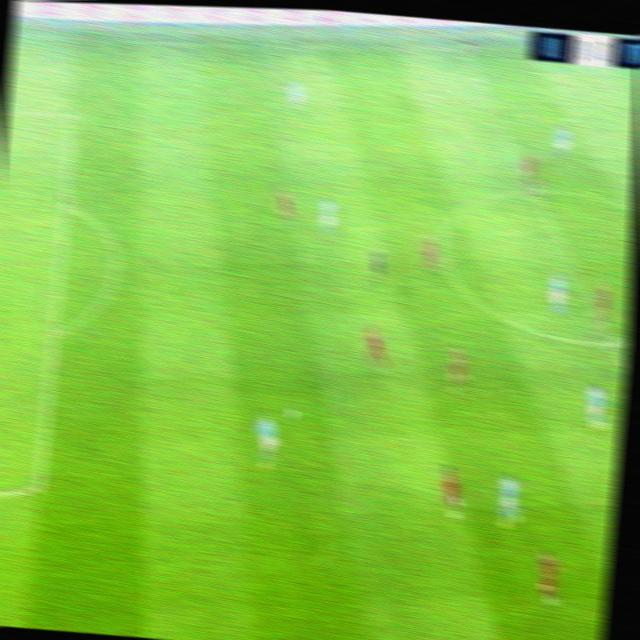bigarea_bottom_inner: (27, 475, 51, 502)
bigarea_top_inner: (60, 107, 80, 131)
bottom_arc_area_intersection: (42, 319, 68, 349)
halfcircle_bottom: (603, 333, 621, 353)
halfcircle_top: (525, 179, 544, 199)
midline_top_intersection: (456, 40, 477, 60)
top_arc_area_intersection: (56, 194, 76, 214)
